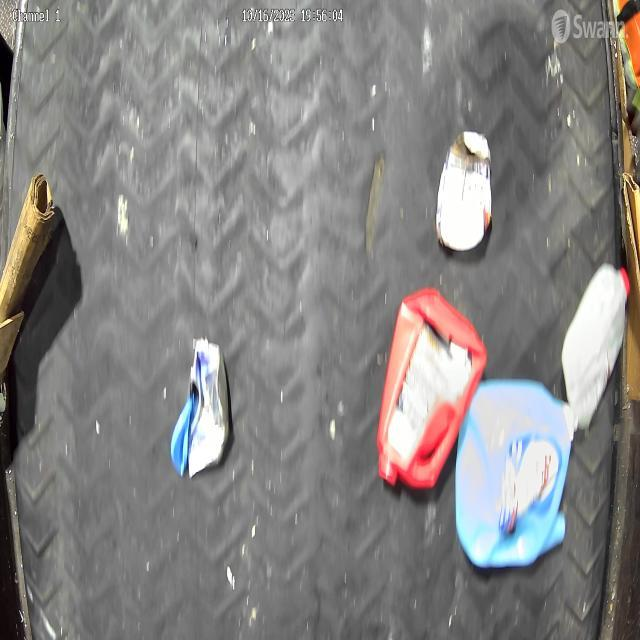can: (163, 332, 228, 481), (432, 120, 489, 264)
milk_jug: (562, 263, 636, 432)
non_white_jug: (372, 277, 492, 503), (455, 377, 579, 580)
